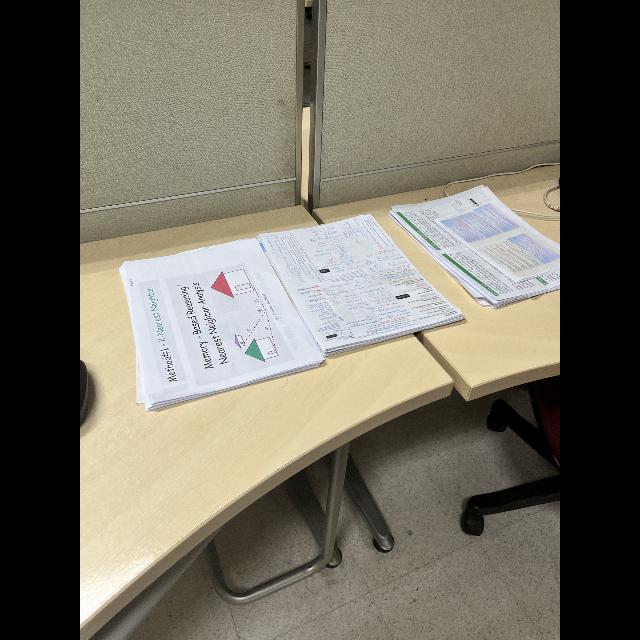reuseable_paper: (117, 212, 469, 422), (386, 180, 560, 314)
